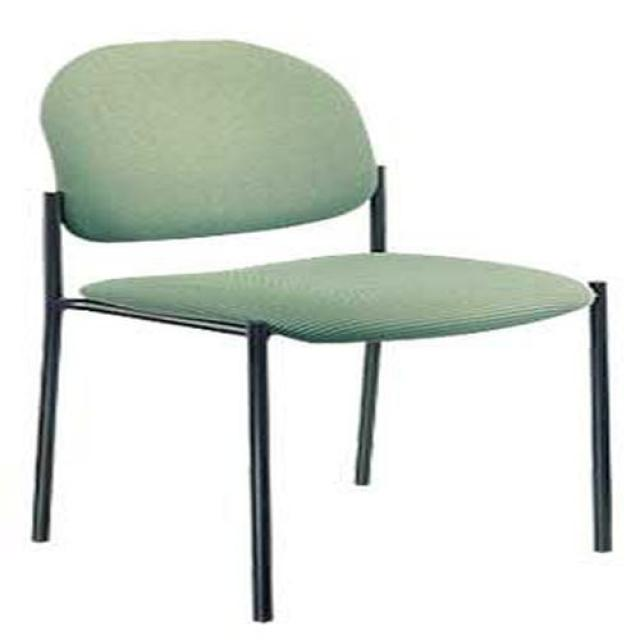chair: (29, 40, 611, 626)
